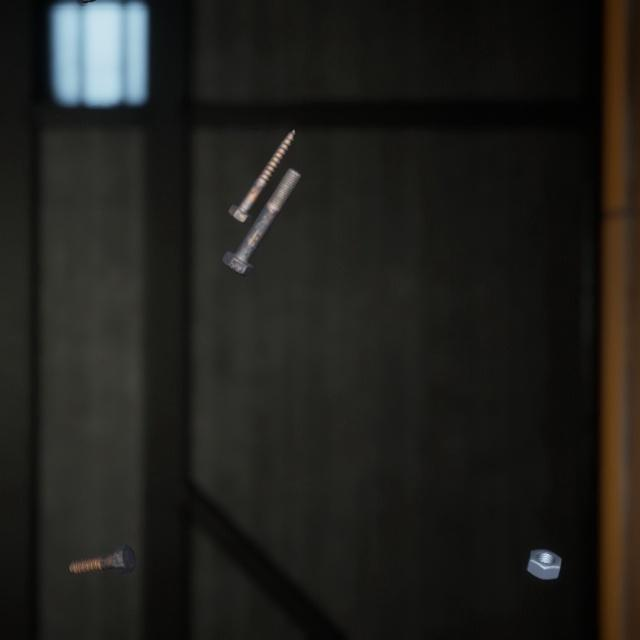bolt: (217, 147, 305, 264), (223, 110, 300, 214), (64, 517, 140, 556)
nut: (522, 522, 565, 561)
